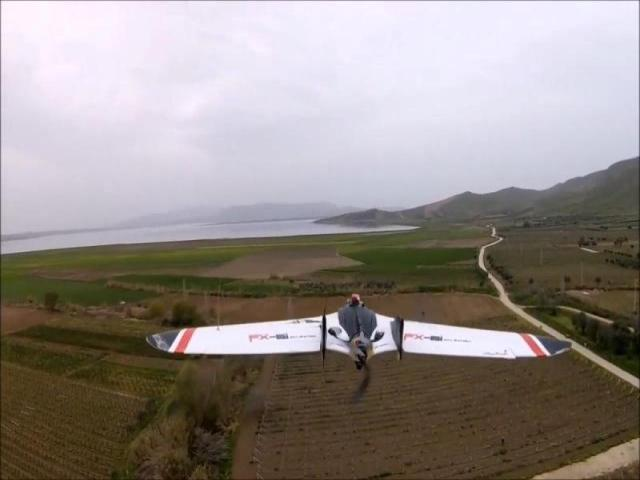hedef: (141, 288, 580, 380)
